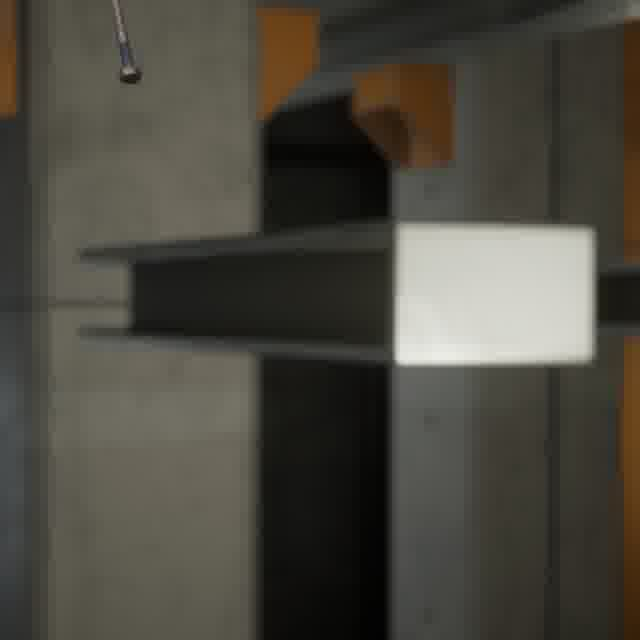bolt: (107, 0, 146, 89)
